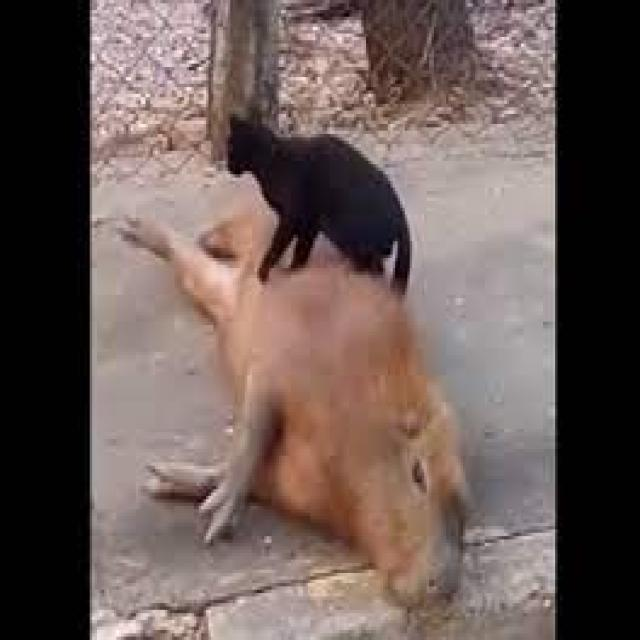capy: (118, 200, 470, 618)
